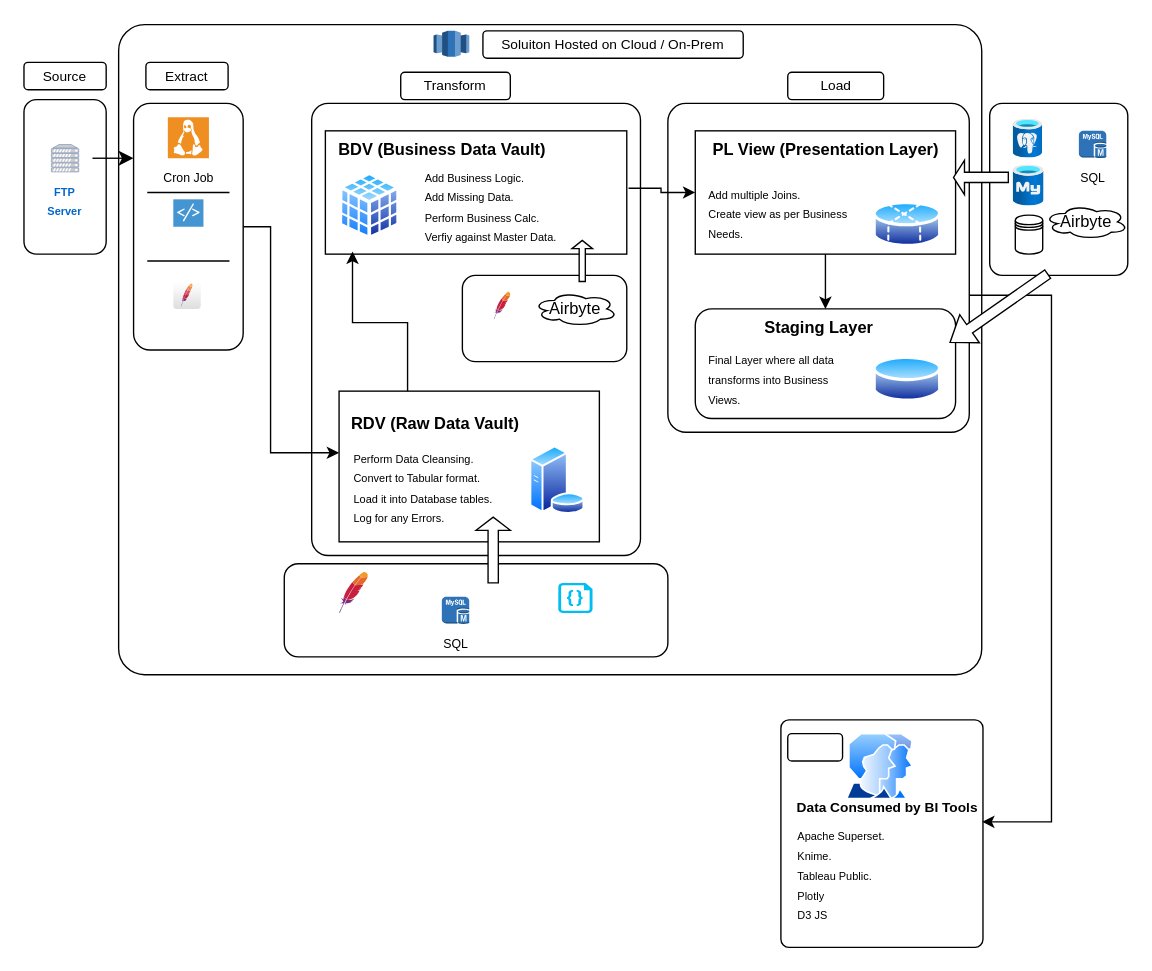
The diagram is 1152 pixels wide and 971 high, and some of its shapes have lost their labels. Here are the shapes that lost their labels. From the top down, the box of each, then its label:
(173, 199, 203, 226): Python / Bash
(172, 280, 201, 309): Apache Nifi
(493, 290, 510, 319): Apache Camel
(338, 571, 368, 613): Apache Airflow
(558, 582, 592, 612): Python/Other PL
(786, 732, 843, 761): BI
